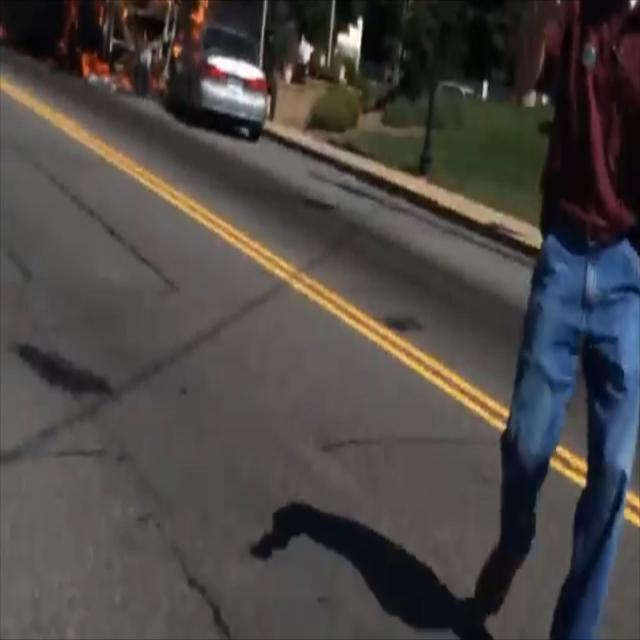fire: (64, 0, 209, 90)
